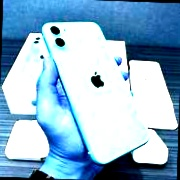samsung: (46, 1, 133, 162)
